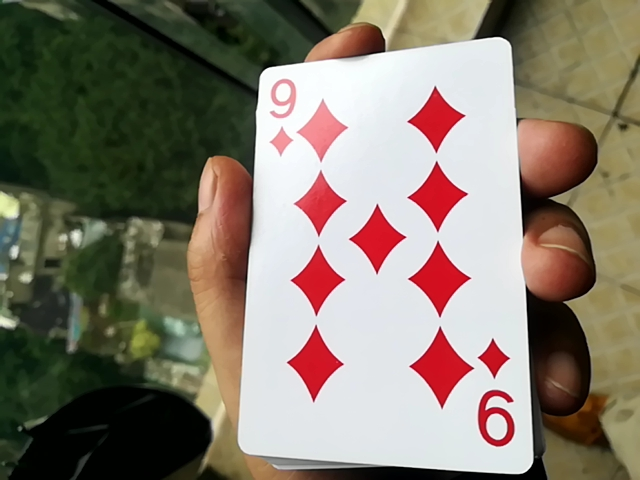fk 9: (232, 31, 529, 476)
